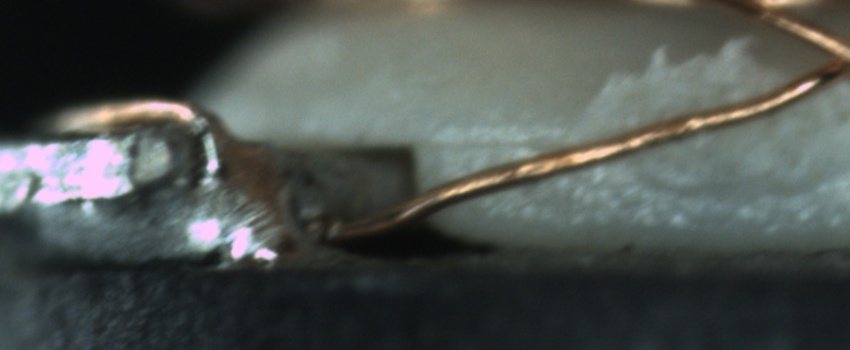CL: (796, 22, 850, 90)
DL: (433, 109, 583, 173)
TE: (47, 94, 225, 134)
